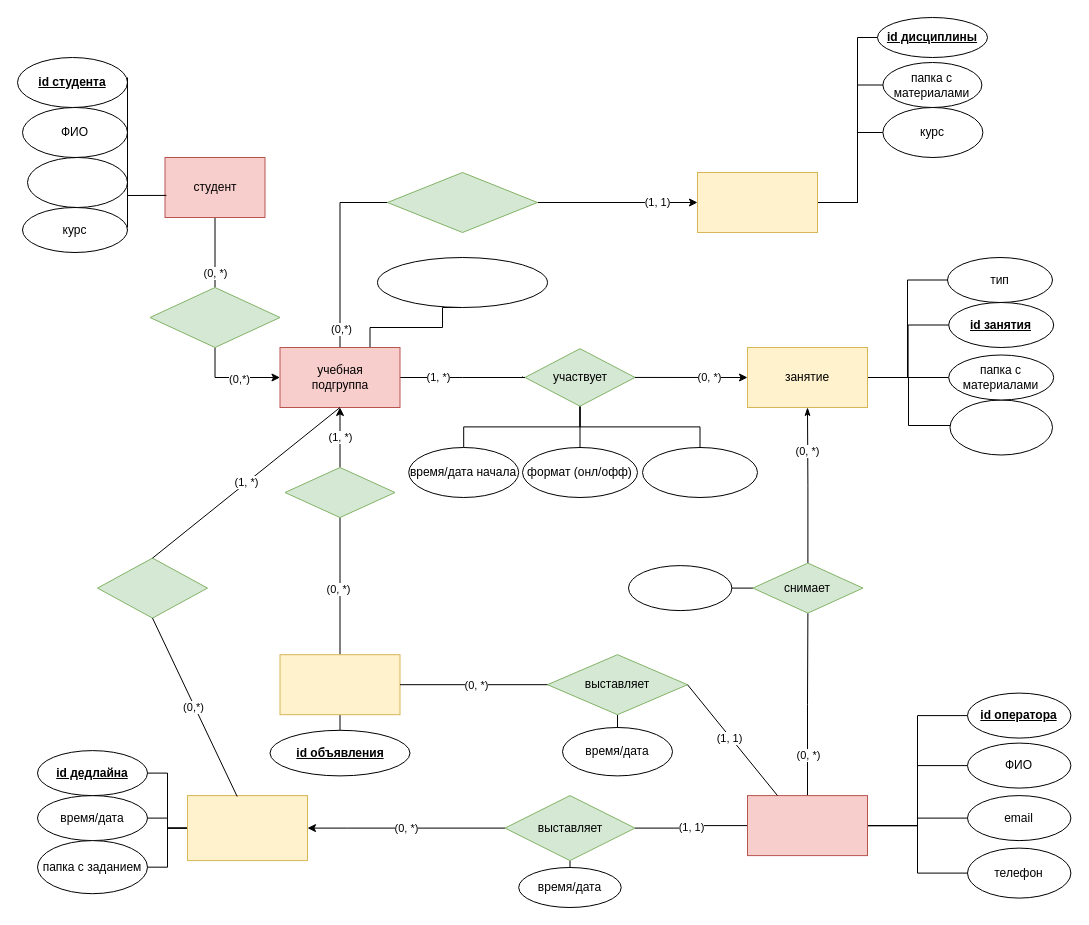
Some shapes in this 1089 by 925 pixel diagram are drawn without their labels. The shapes that lost their labels are listed below. From the top down, each one's centre as x and y in pixels, then its label:
At (77,182): "номер группы".
At (462,202): "изучает".
At (757,202): "дисциплина".
At (462,282): "id учебной подгруппы".
At (214,317): "состоит".
At (1000,427): "ссылка на запись".
At (339,492): "относится к".
At (700,472): "место проведения (ауд/ссылка)".
At (152,587): "относятся к".
At (680,588): "приоритет".
At (339,684): "объявление".
At (247,828): "дедлайн".
At (807,825): "оператор".
